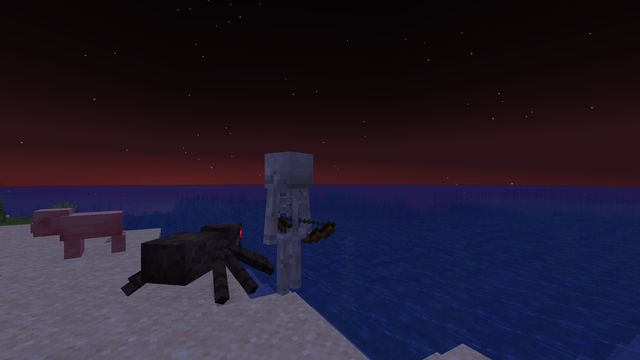araignees: (152, 216, 255, 310)
cochons: (58, 209, 121, 261)
squelettes: (263, 151, 316, 302)
